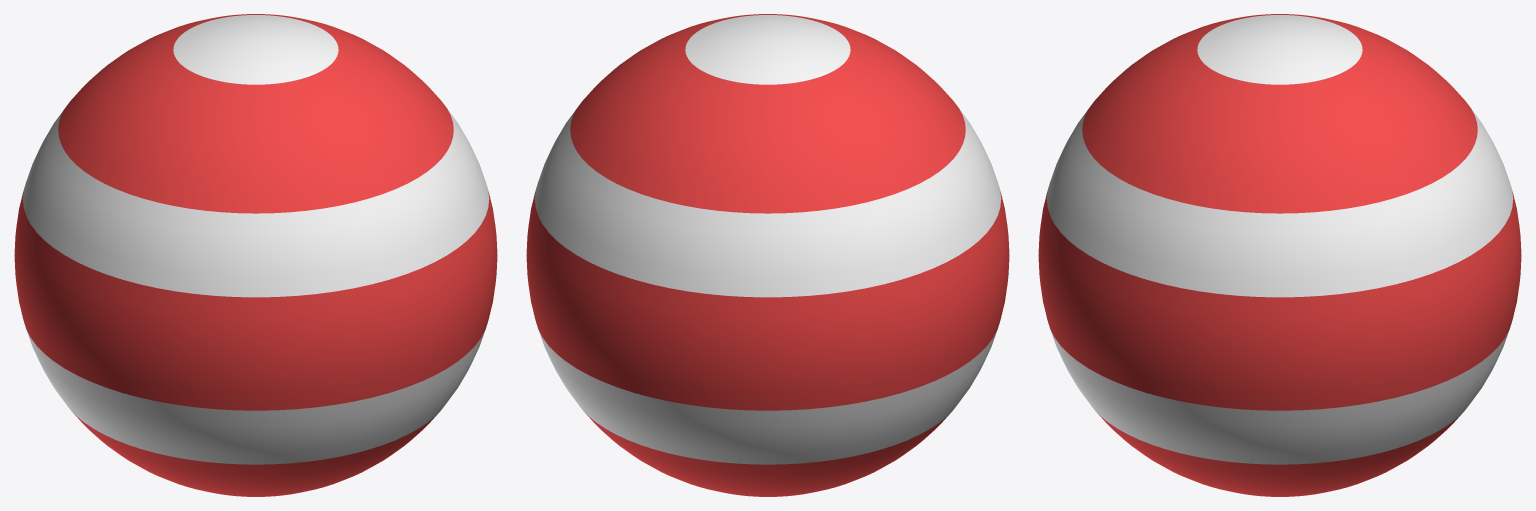
The model's file is BumperBallBands.obj.
The picture shows the model from 3 angles, left to right: view 1: azimuth 30°, elevation 25°; view 2: azimuth 150°, elevation 25°; view 3: azimuth 270°, elevation 25°; orthographic projection.
Parts seen in each view (by area): view 1: Shell, Pattern; view 2: Shell, Pattern; view 3: Shell, Pattern.
Boxes of the visible parts, x1,y1,x2,y2 form: Shell: (14,14,497,496); Pattern: (22,15,489,464); Shell: (526,14,1009,496); Pattern: (534,15,1001,464); Shell: (1038,14,1521,496); Pattern: (1046,15,1513,464).
Size of the model in its own units: 8 by 8 by 8.
